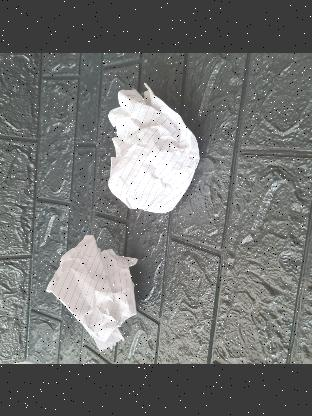Others: (108, 81, 200, 214), (47, 232, 138, 350)
